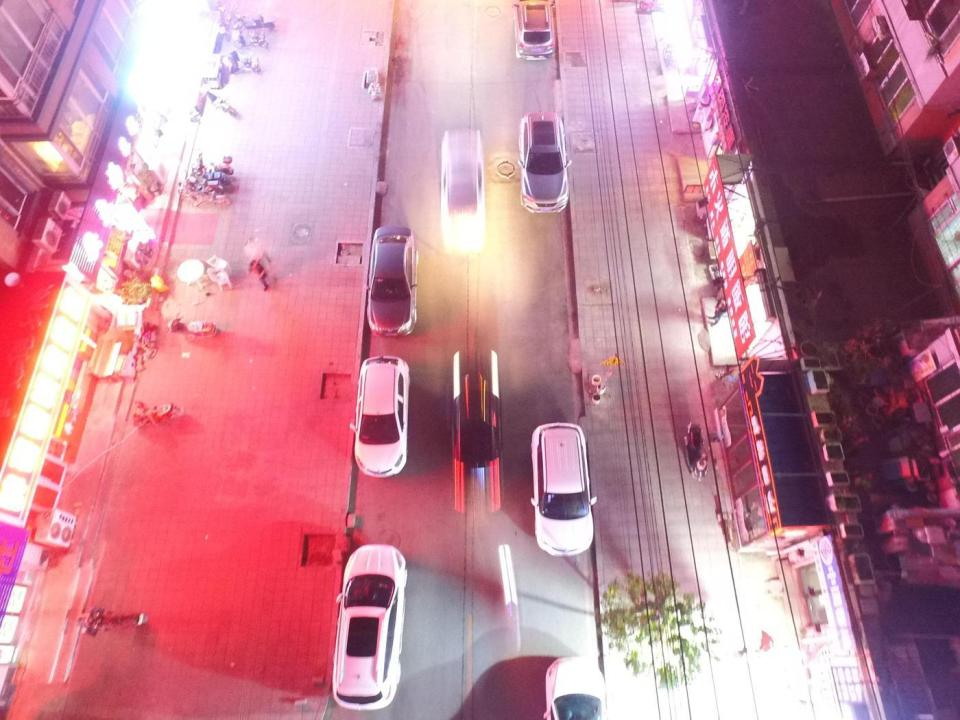car: (332, 542, 408, 712), (530, 421, 594, 557), (353, 354, 412, 480), (453, 350, 503, 486), (366, 224, 418, 338), (439, 132, 486, 252), (518, 110, 570, 215), (544, 655, 609, 720), (513, 0, 556, 62)
